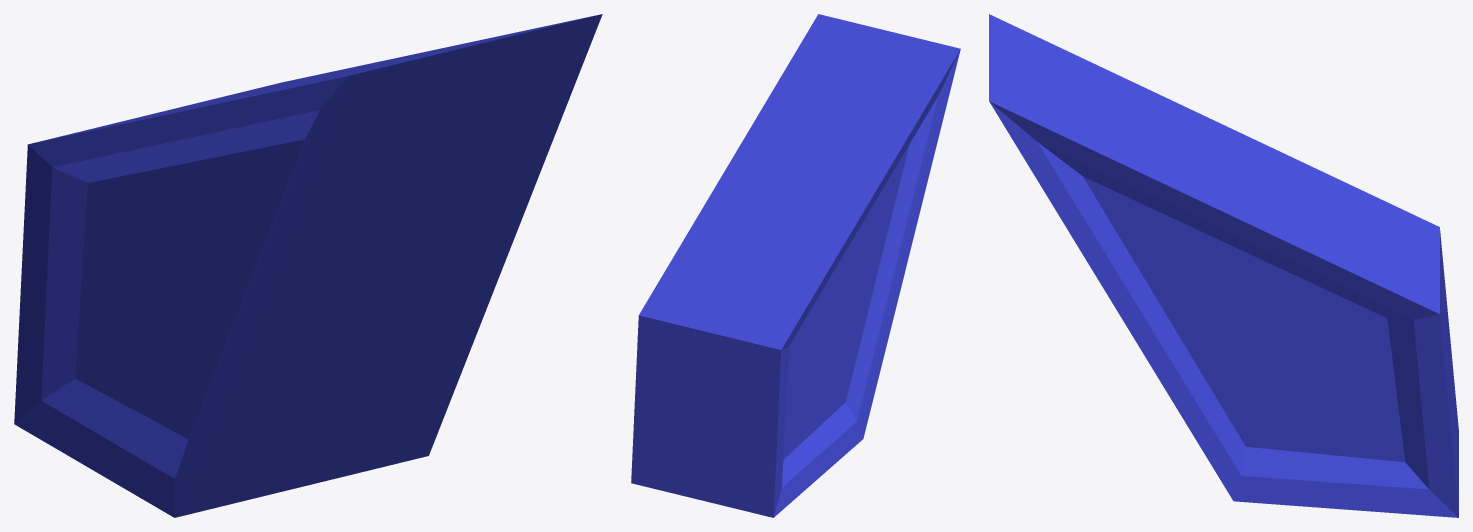
The model's file is viroTestShapeBasic.glb.
The picture shows the model from 3 angles, left to right: view 1: azimuth 30°, elevation 25°; view 2: azimuth 150°, elevation 25°; view 3: azimuth 270°, elevation 25°; orthographic projection. The views are drawn at different scales.
Visible parts, largest first — view 1: Cube; view 2: Cube; view 3: Cube.
Part boxes in pixels (left/top/right/bottom): Cube: left=14, top=14, right=602, bottom=517; Cube: left=631, top=14, right=960, bottom=517; Cube: left=989, top=14, right=1458, bottom=517.
Bounding box in the file's own units: 1.73 × 3.85 × 3.93.
